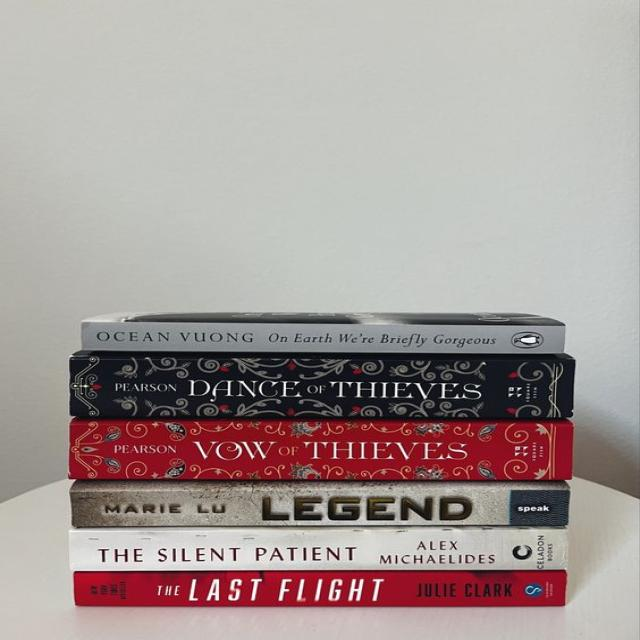book: (71, 353, 574, 419), (70, 419, 573, 481), (71, 481, 569, 528), (69, 527, 567, 571), (74, 570, 566, 606), (83, 322, 568, 351)
